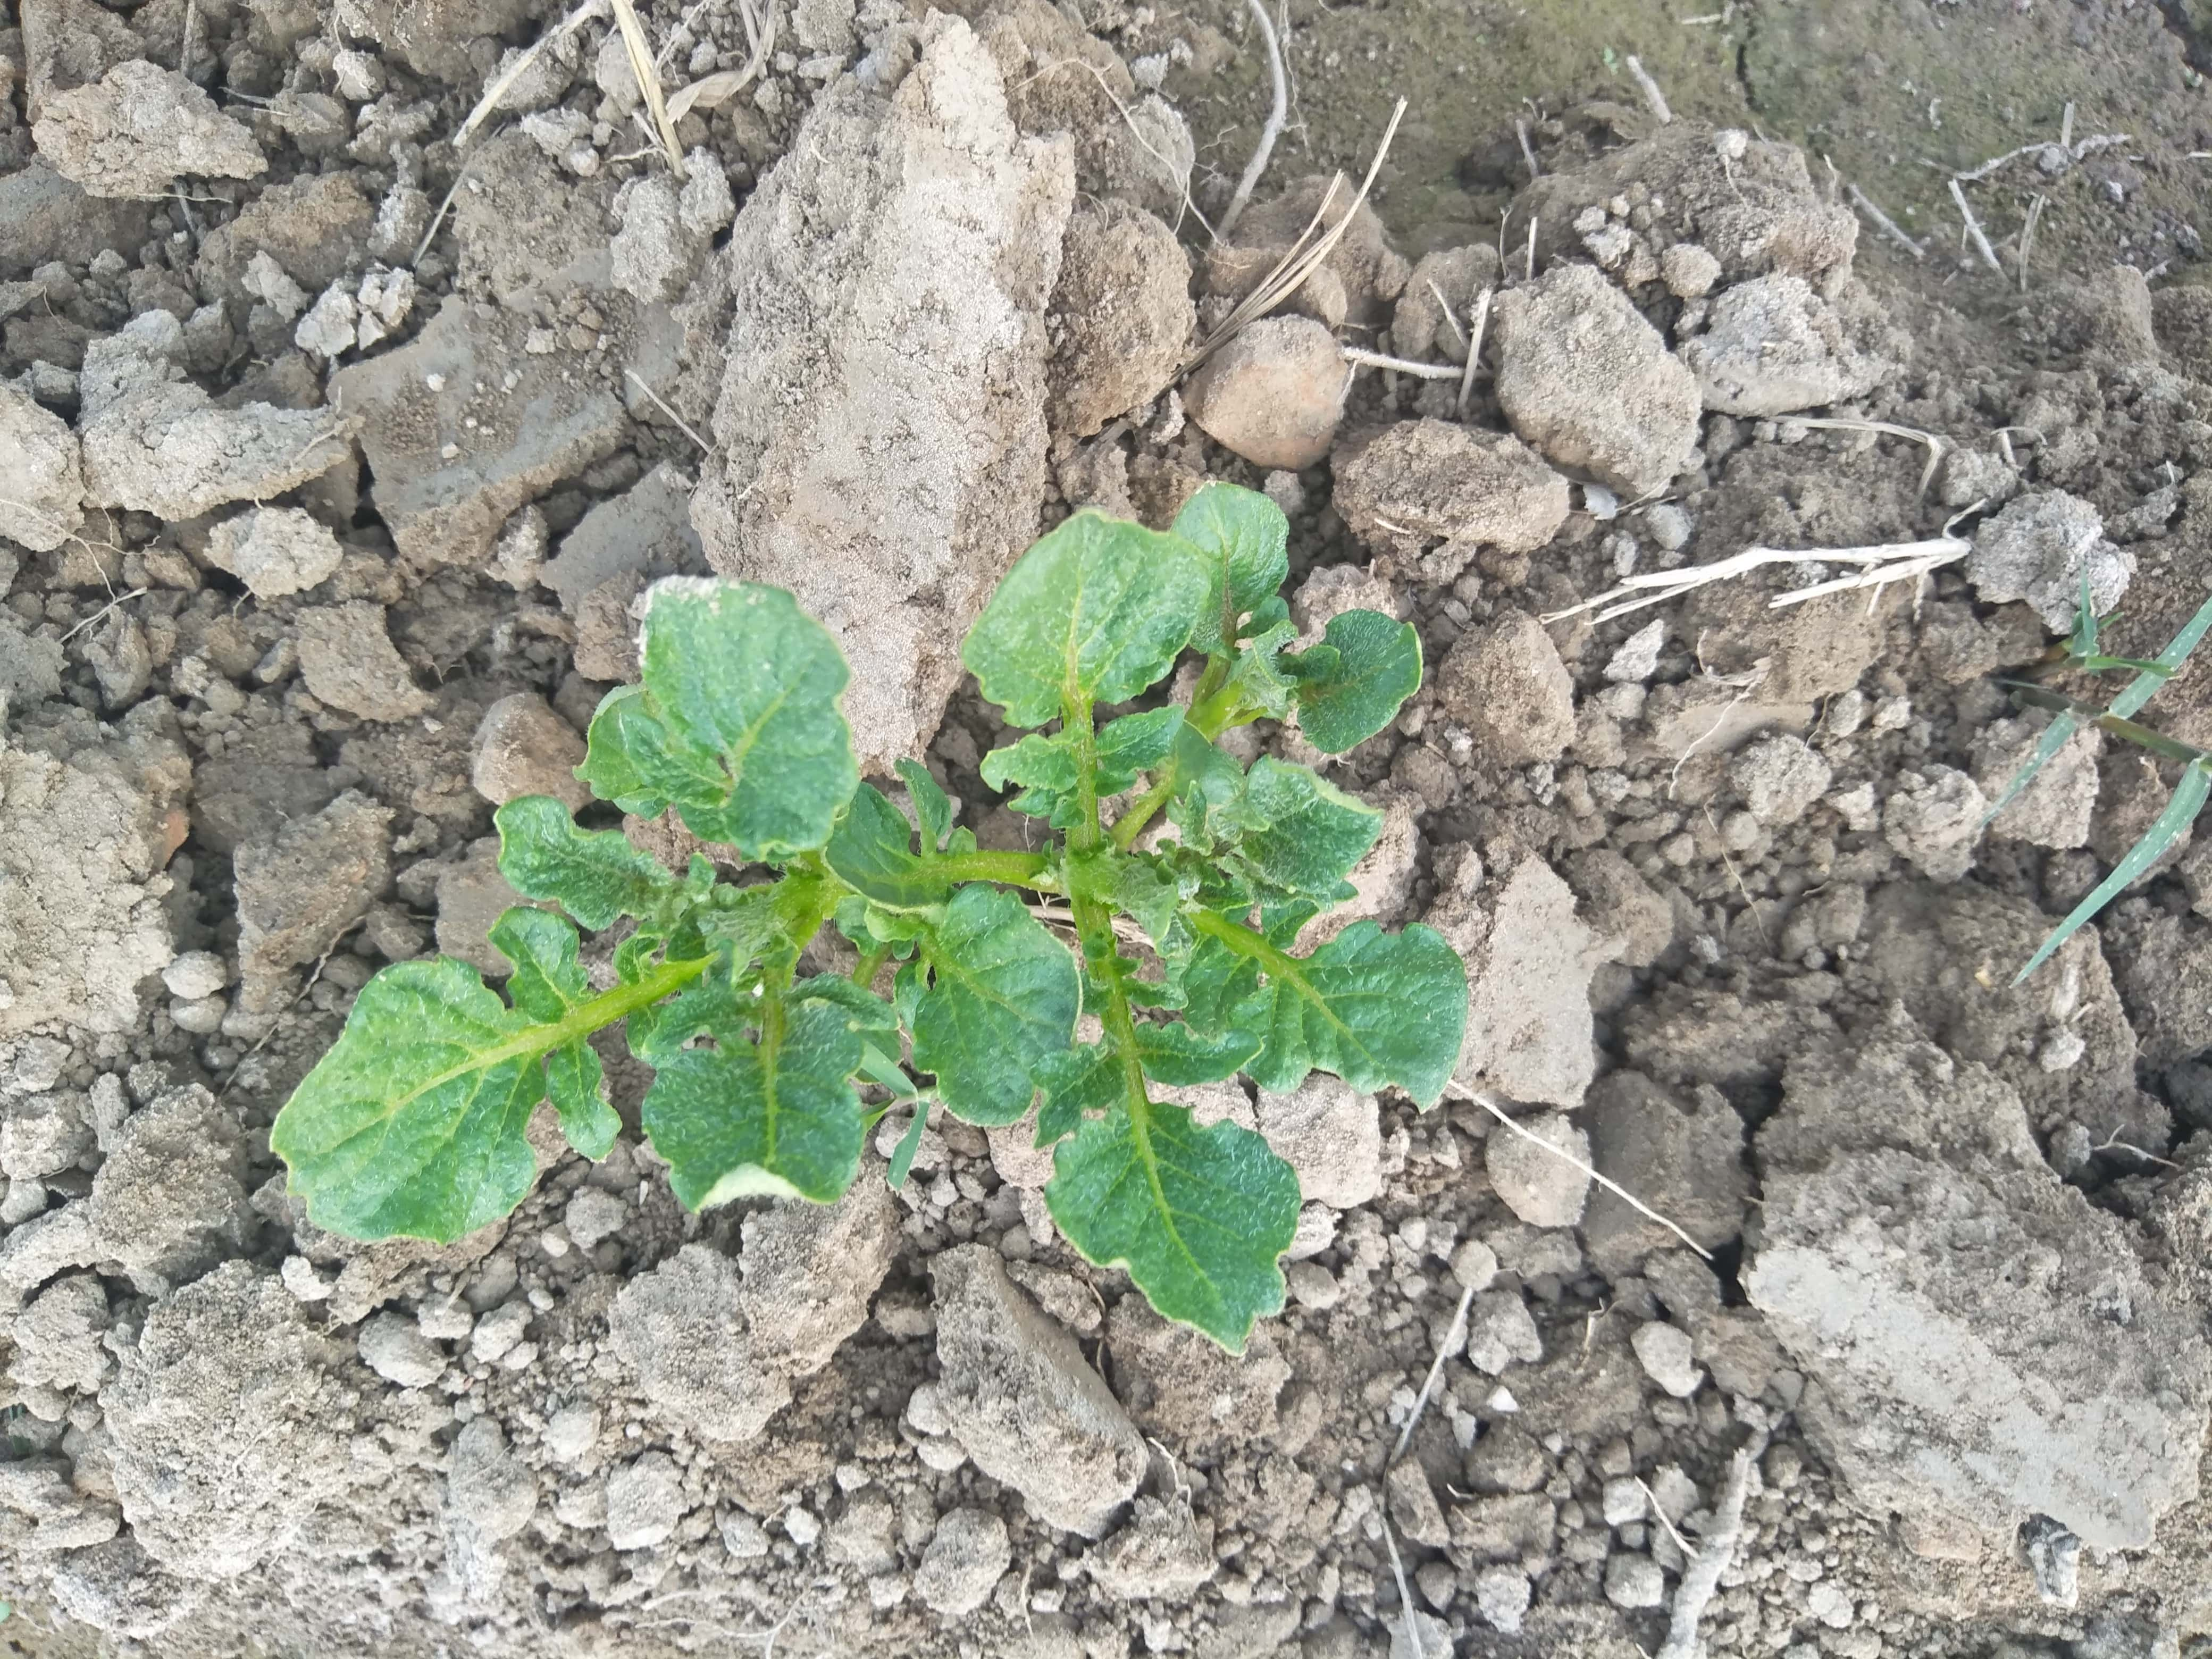daun: (270, 969, 608, 1220), (583, 586, 845, 840), (1040, 1121, 1294, 1352), (954, 505, 1191, 704), (660, 995, 862, 1194), (1261, 918, 1470, 1110), (900, 903, 1069, 1121), (488, 796, 671, 922), (826, 767, 948, 915), (1216, 777, 1386, 882), (1298, 626, 1416, 751), (1176, 495, 1285, 627), (1076, 856, 1202, 946), (697, 873, 805, 971), (1129, 1011, 1249, 1094), (1080, 713, 1184, 786), (996, 737, 1087, 796)
